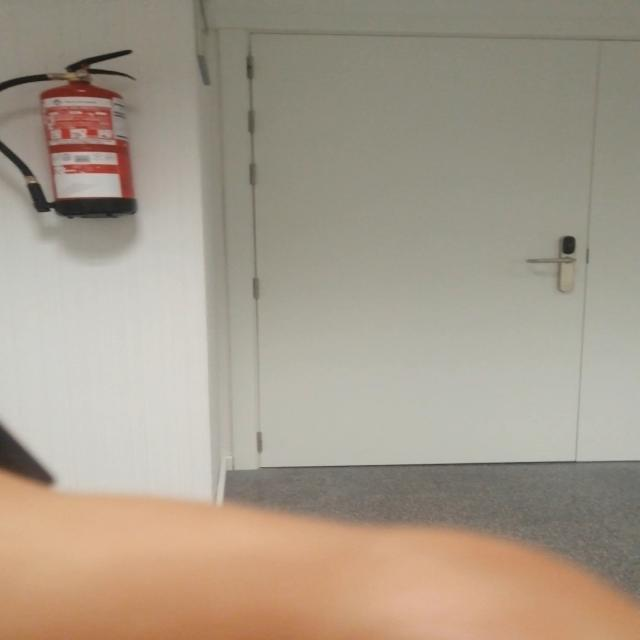door_handle: (523, 258, 581, 265)
